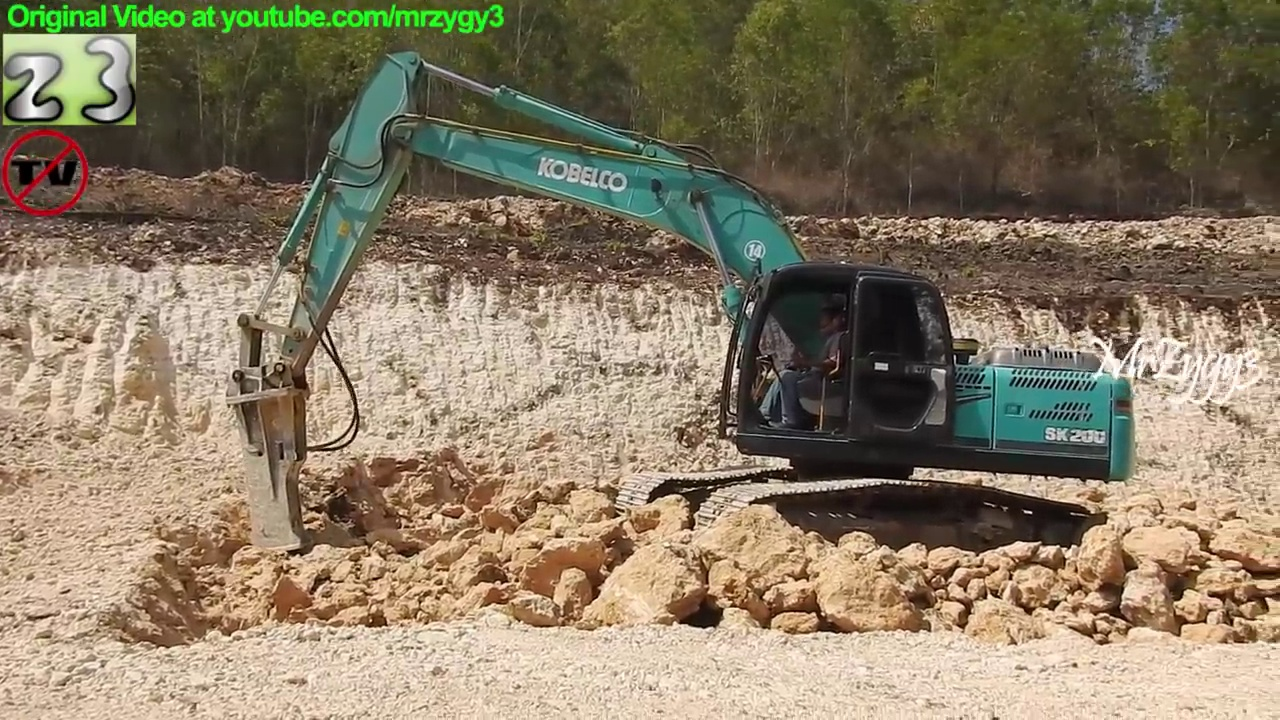excavator breaker: (216, 41, 1143, 575)
